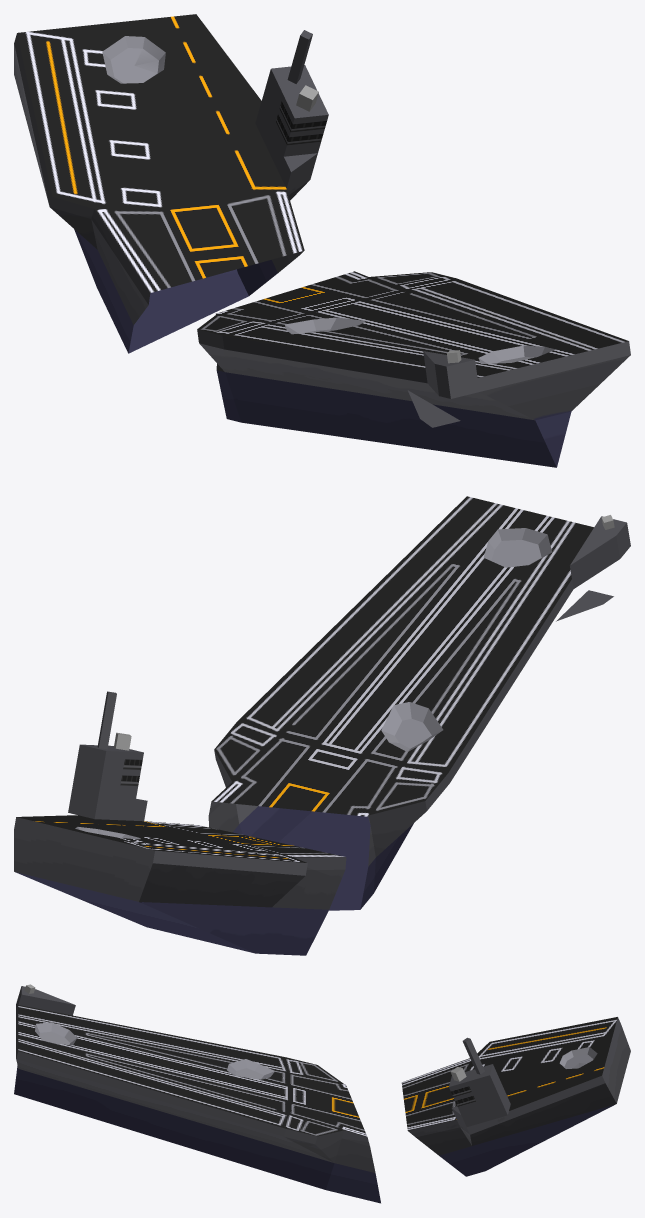
The model's file is AircraftCarrier.fbx.
3 views of the same model, one above another, from view 1: azimuth 30°, elevation 25°; view 2: azimuth 150°, elevation 25°; view 3: azimuth 270°, elevation 25° (orthographic). The views are drawn at different scales.
Visible parts, largest first — view 1: AircraftCarrier; view 2: AircraftCarrier; view 3: AircraftCarrier.
Boxes of the visible parts, bbox=[...] form: AircraftCarrier: bbox=[14, 14, 630, 467]; AircraftCarrier: bbox=[14, 496, 630, 955]; AircraftCarrier: bbox=[14, 984, 630, 1203].
Bounding box in the file's own units: 1062 × 1147 × 3584.
Materials: 1 (1 with a texture image).
